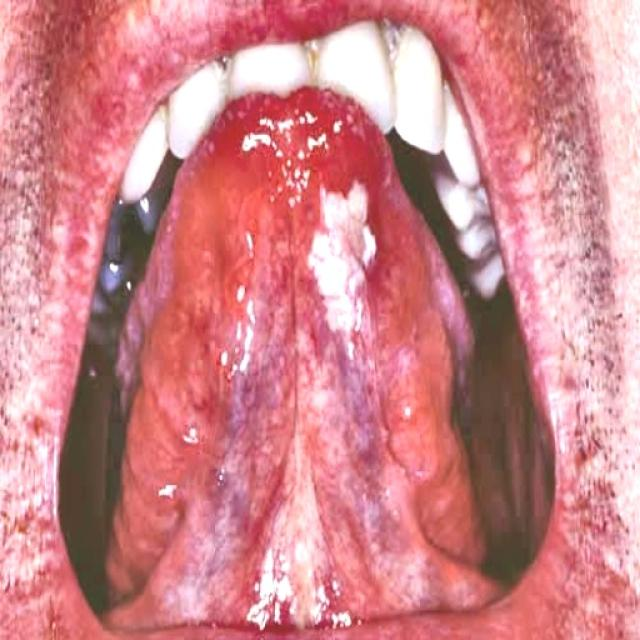leukoplakia-detection: (292, 162, 406, 391)
processing_area: (91, 90, 510, 639)
